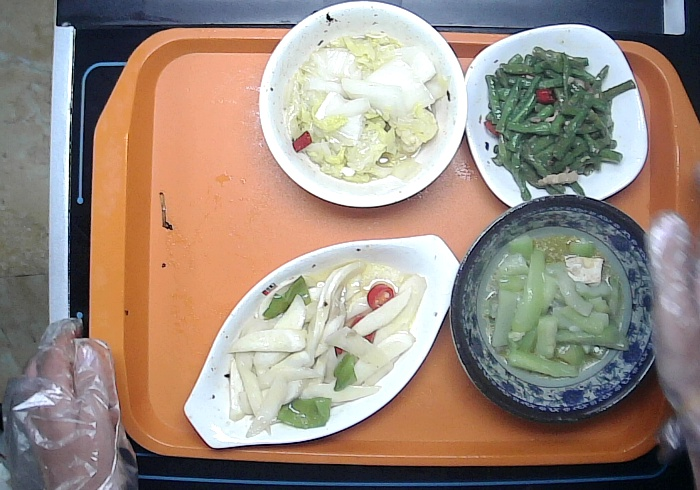ZNLD-Qing_Hua_Wan: (444, 198, 672, 440)
ZNLD-Si_Fang_Wan: (467, 20, 655, 218)
ZNLD-Tang_Wan: (259, 1, 466, 212)
ZNLD-Yu_Pan: (186, 227, 461, 463)
